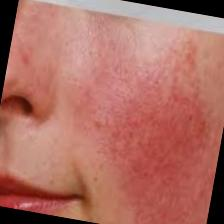Sensitif: (0, 1, 224, 224)
